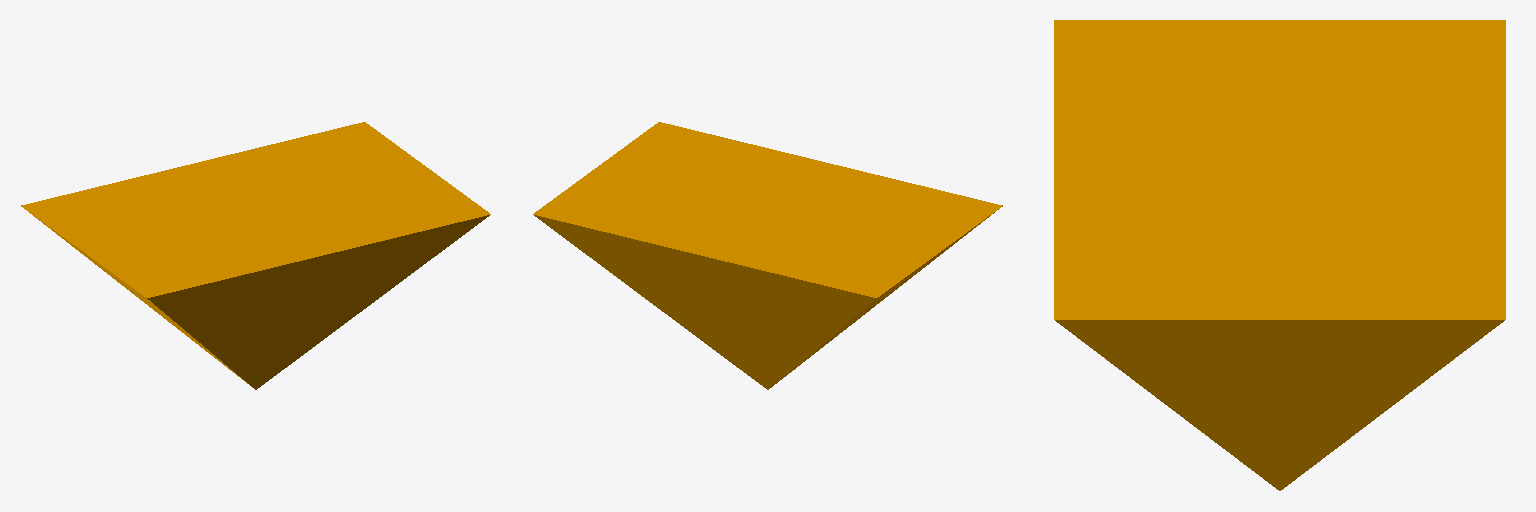
The robot description file, URDF, robot "square_pyramid":
<?xml version="1.0"?>
<robot name="square_pyramid">

  <link name="FOV">
    <visual>
      <origin xyz="0.0 0.0 0.0" rpy="0.0 0.0 0.0"/>
      <geometry>
        <mesh filename="package://collision_detect/description/meshes/FOV.stl"/>
      </geometry>
    </visual>
    <collision>
      <origin xyz="0.0 0.0 0.0" rpy="0.0 0.0 0.0"/>
      <geometry>
        <mesh filename="package://collision_detect/description/meshes/FOV.stl"/>
      </geometry>
    </collision>
  </link>

</robot>

--- Render facts (derived) ---
3 views of the same robot in one strip: view 1: azimuth 30°, elevation 25°; view 2: azimuth 150°, elevation 25°; view 3: azimuth 270°, elevation 25° (orthographic).
Robot: square_pyramid — 1 links, 0 joints (none); root link FOV; default pose: every joint at zero.
Links seen in each view (by area): view 1: FOV; view 2: FOV; view 3: FOV.
Link boxes in pixels (x1,y1,x2,y2): FOV: (21, 122, 490, 389); FOV: (533, 122, 1002, 389); FOV: (1054, 20, 1505, 490).
Bounding box of the posed robot: 2000 × 1274 × 1000 m (x, y, z).
Meshes: 1 distinct files referenced, 1 mesh visuals loaded (1 binary STL).